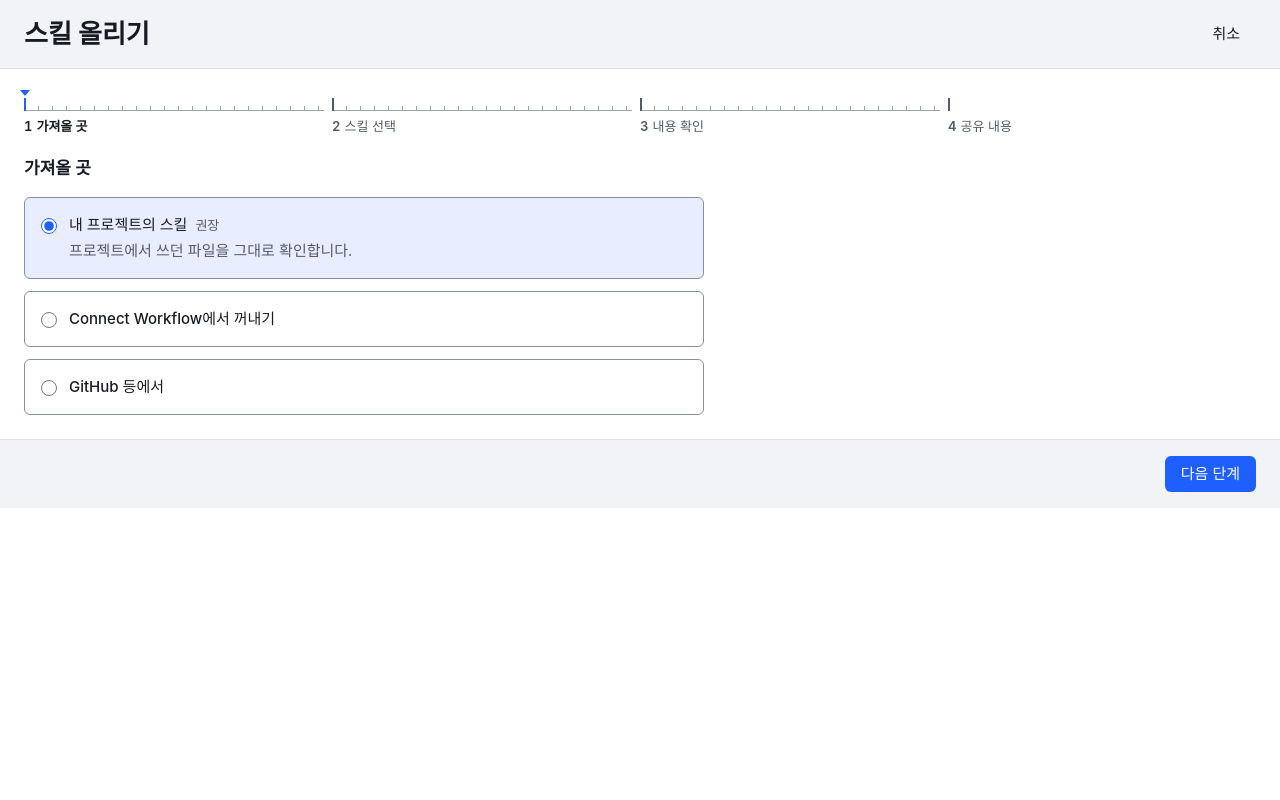
Test: registration › previews the selected Workflow revision without editing the Workflow
Click the radio button labelled "Connect Workflow에서 꺼내기" at (49, 320), box [41, 312, 57, 328]
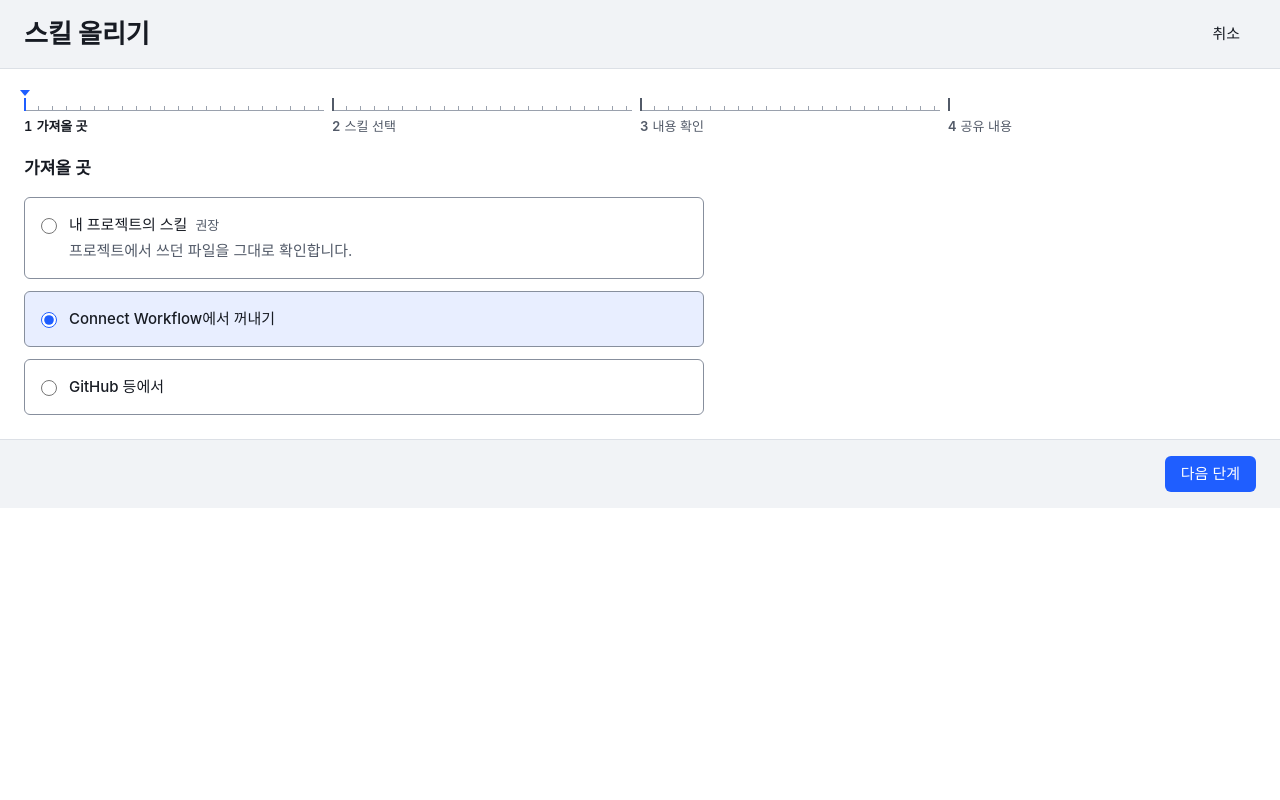
Click the button "다음 단계" at (1210, 474), box [1165, 456, 1256, 492]
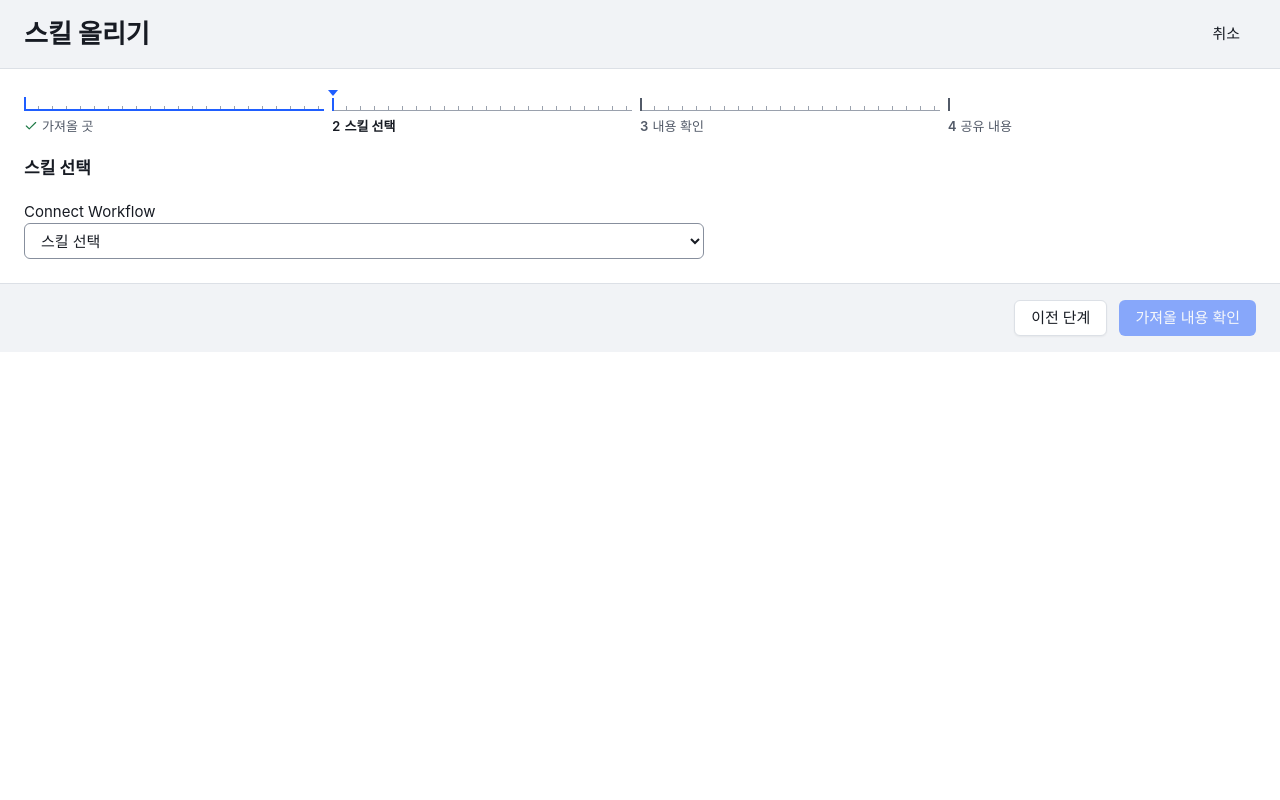
Select "표 연구" in the dropdown labelled "Connect Workflow" at (364, 241), box [24, 223, 704, 259]
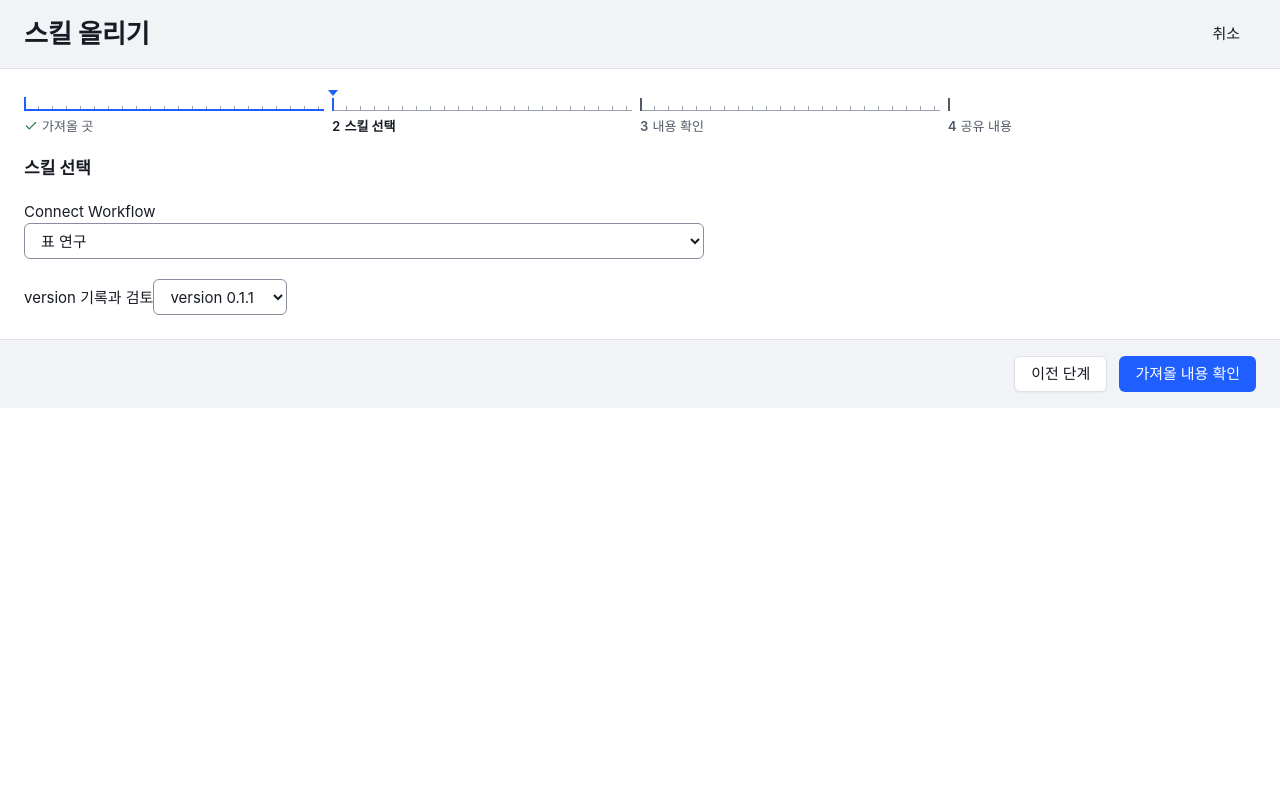
Select "version 0.1.0" in the dropdown labelled "version 기록과 검토" at (220, 297), box [153, 279, 287, 315]
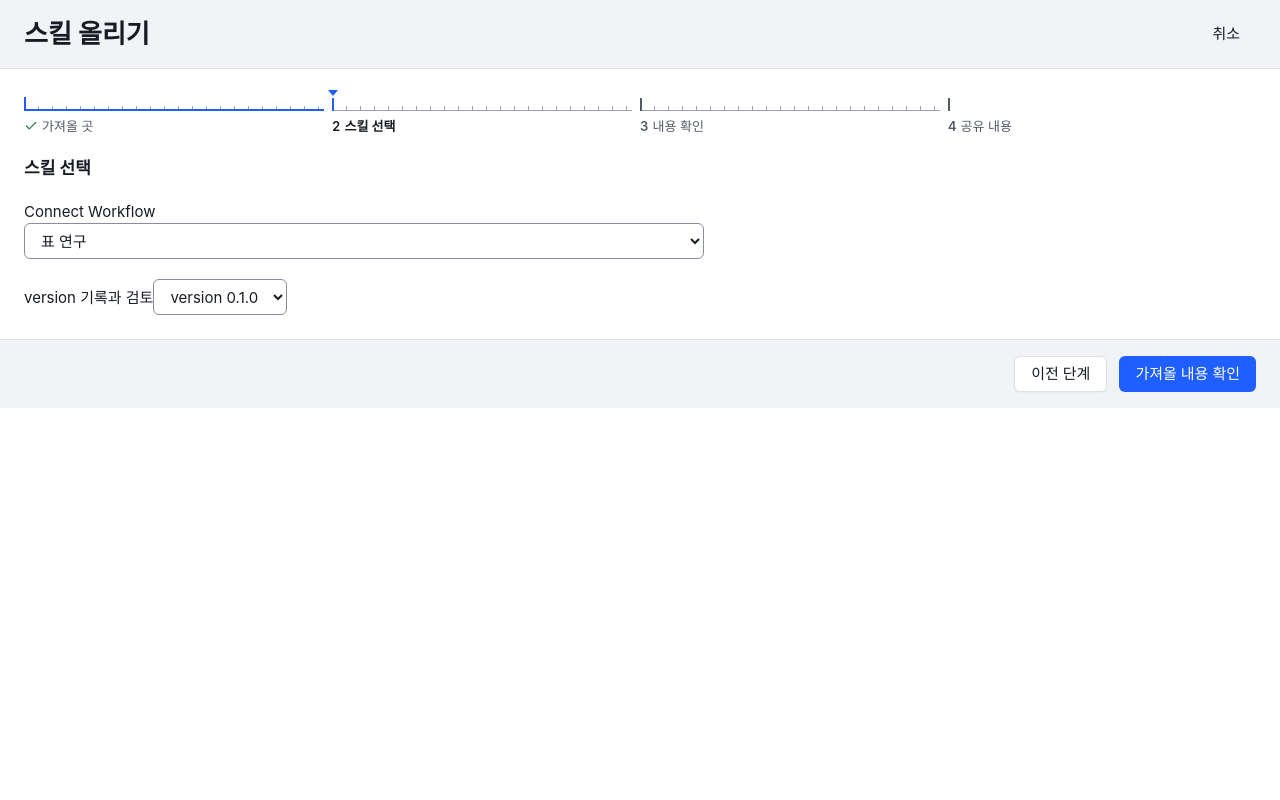
Click the button "가져올 내용 확인" at (1188, 374), box [1119, 356, 1256, 392]
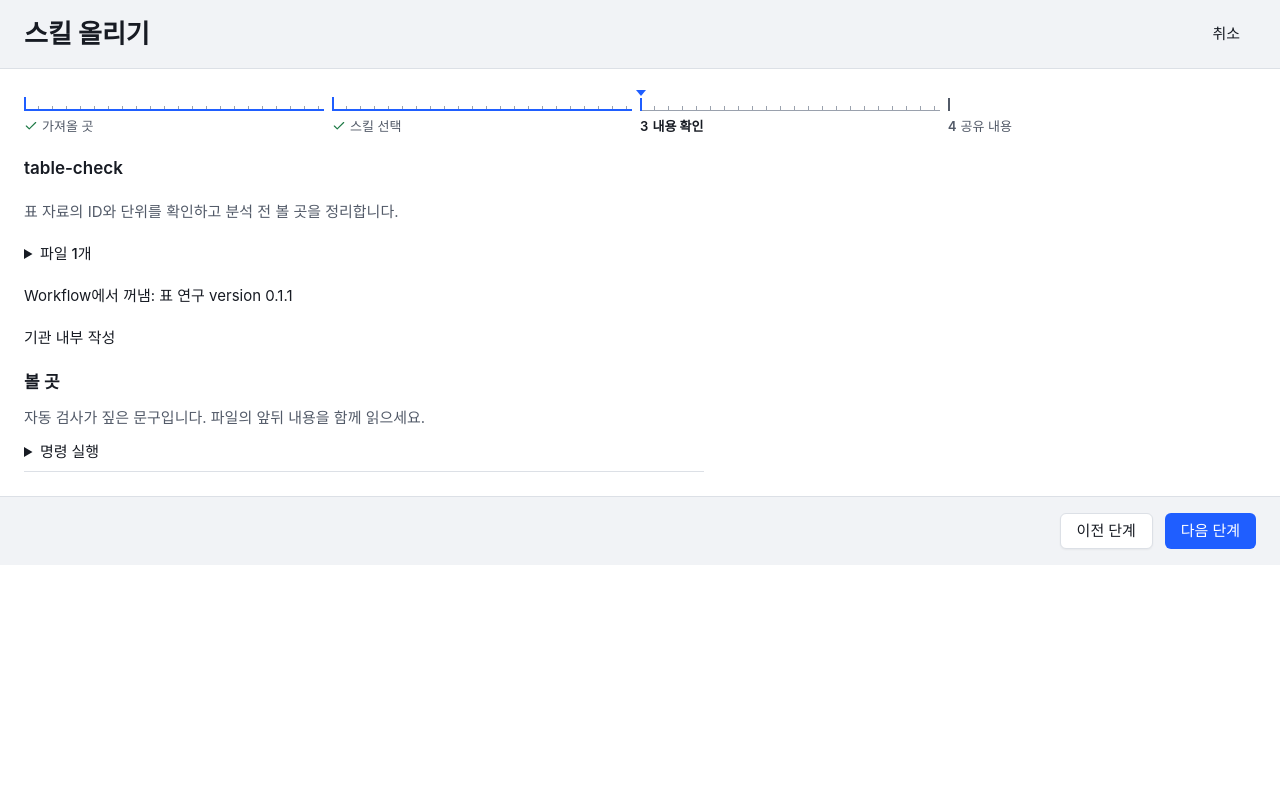
Expected: the text "Workflow에서 꺼냄: 표 연구 version 0.1.1" is shown, [24, 286, 293, 305]
